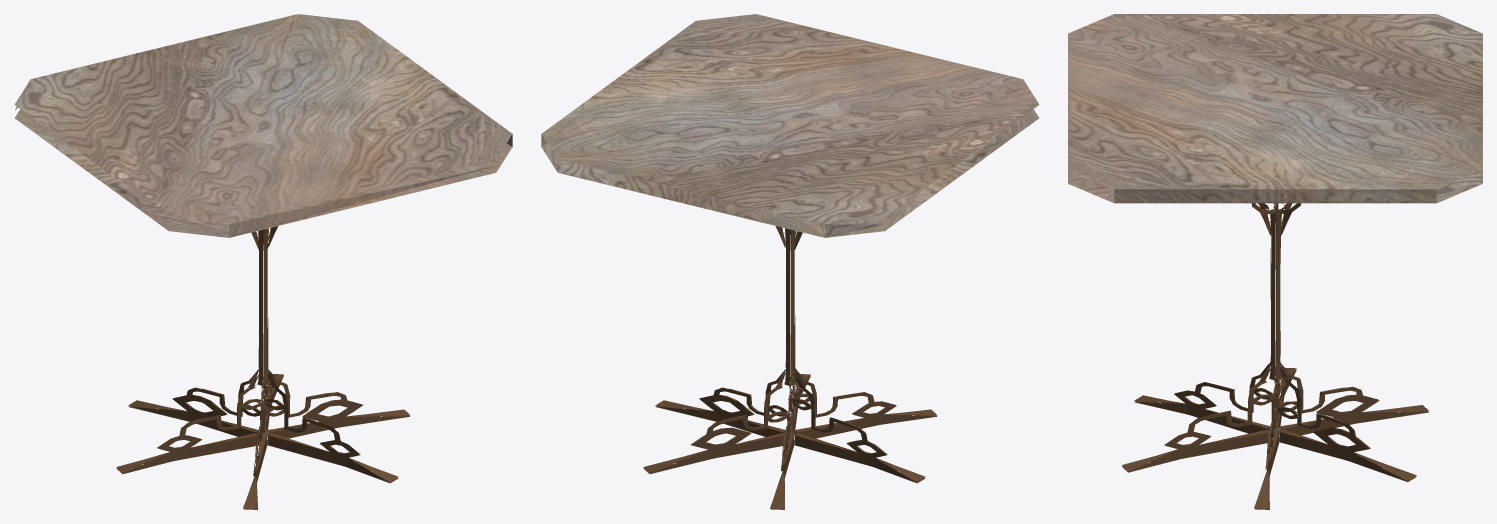
Rendered from table-6.glb.
The picture shows the model from 3 angles, left to right: view 1: azimuth 30°, elevation 25°; view 2: azimuth 150°, elevation 25°; view 3: azimuth 270°, elevation 25°; orthographic projection. The views are drawn at different scales.
Parts seen in each view (by area): view 1: Object_3, Object_2; view 2: Object_3, Object_2; view 3: Object_3, Object_2.
Part boxes in pixels (x1,y1,x2,y2): Object_3: [14, 14, 512, 237]; Object_2: [116, 226, 410, 509]; Object_3: [541, 14, 1039, 237]; Object_2: [643, 226, 937, 509]; Object_3: [1068, 14, 1482, 203]; Object_2: [1122, 203, 1428, 509].
Size of the model in its own units: 7.17 by 6.45 by 7.17.
Materials: 2 (2 with a texture image).
